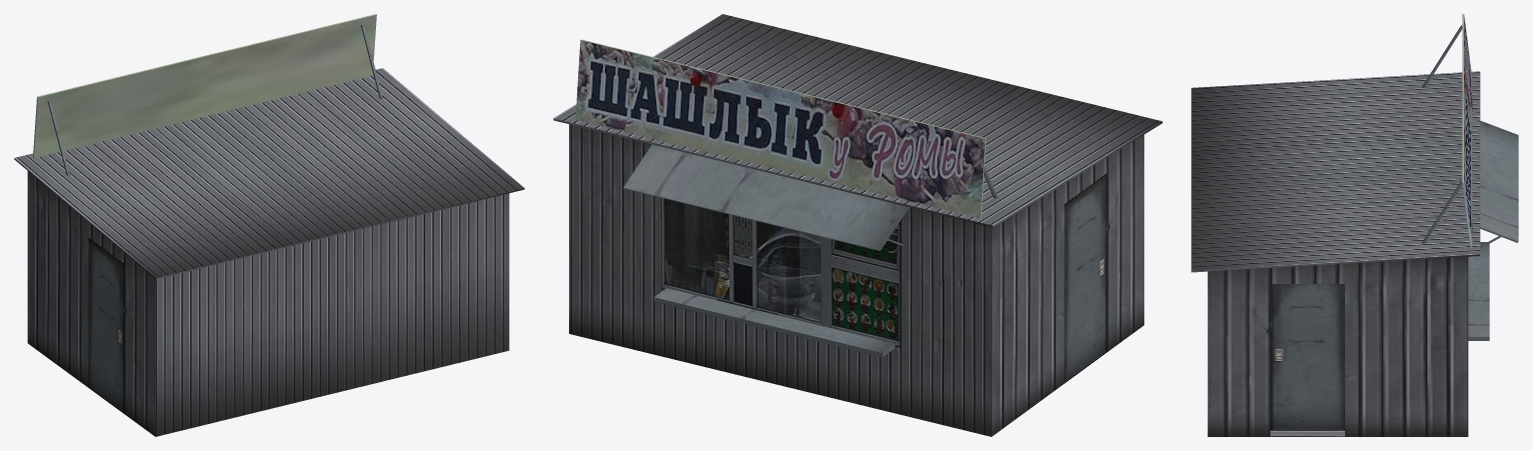
The model's file is boutique.glb.
3 renders of one model, left to right at view 1: azimuth 30°, elevation 25°; view 2: azimuth 150°, elevation 25°; view 3: azimuth 270°, elevation 25°, orthographic. The views are drawn at different scales.
Visible parts, largest first — view 1: Object_2; view 2: Object_2; view 3: Object_2.
Part boxes in pixels (x1,y1,x2,y2): Object_2: [14, 14, 524, 436]; Object_2: [553, 14, 1162, 436]; Object_2: [1191, 14, 1518, 436].
Bounding box in the file's own units: 2.5 × 1.6 × 1.89.
Materials: 1 (1 with a texture image).
